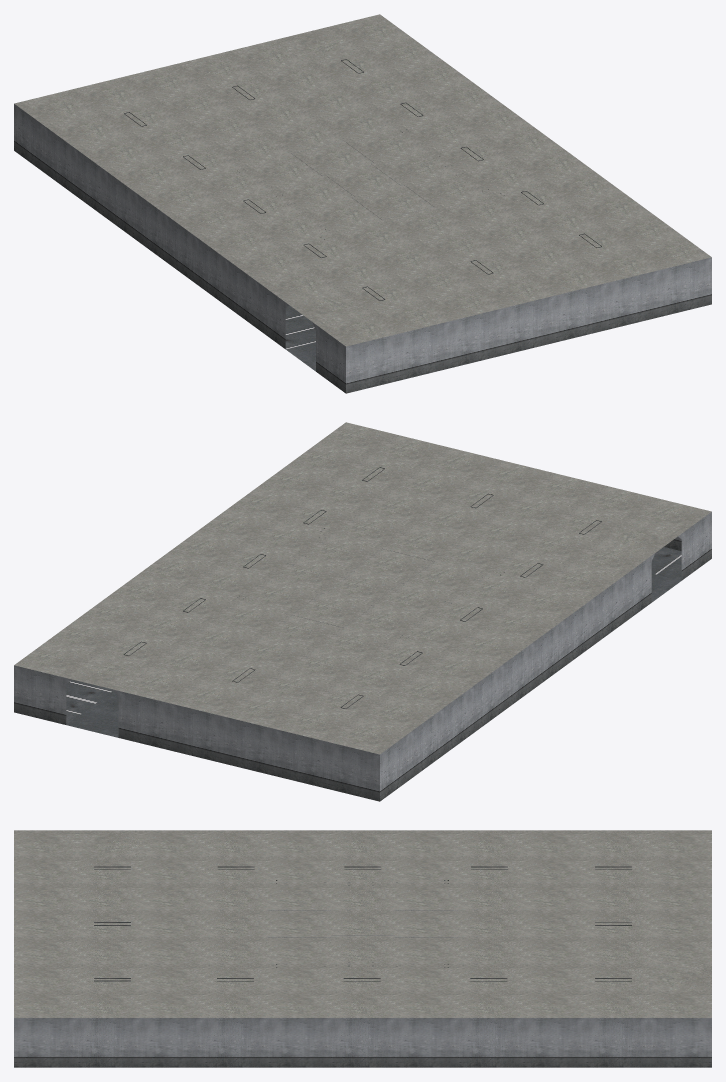
The model's file is aircarpark_06_sfse.obj.
The picture shows the model from 3 angles, top to bottom: view 1: azimuth 30°, elevation 25°; view 2: azimuth 150°, elevation 25°; view 3: azimuth 270°, elevation 25°; orthographic projection. The views are drawn at different scales.
Visible parts, largest first — view 1: aircarpark_06_SFSe; view 2: aircarpark_06_SFSe; view 3: aircarpark_06_SFSe.
Part boxes in pixels (box(x1,y1,x2,y2)): aircarpark_06_SFSe: box(14, 14, 711, 393); aircarpark_06_SFSe: box(14, 422, 711, 801); aircarpark_06_SFSe: box(14, 830, 711, 1067).
Size of the model in its own units: 57.59 by 7.15 by 90.5.
Materials: 17 (17 with a texture image).
